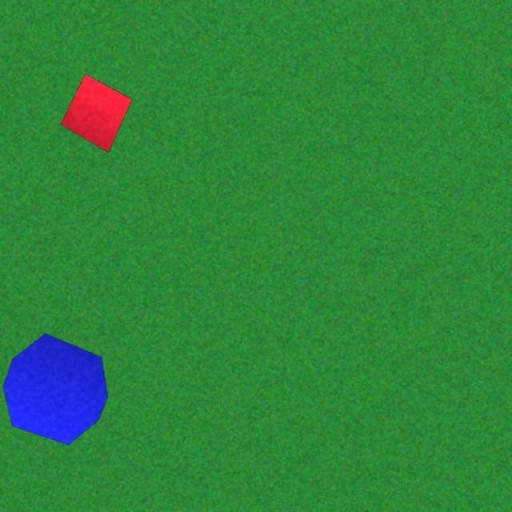RED_SQUARE: (60, 74, 134, 152)
